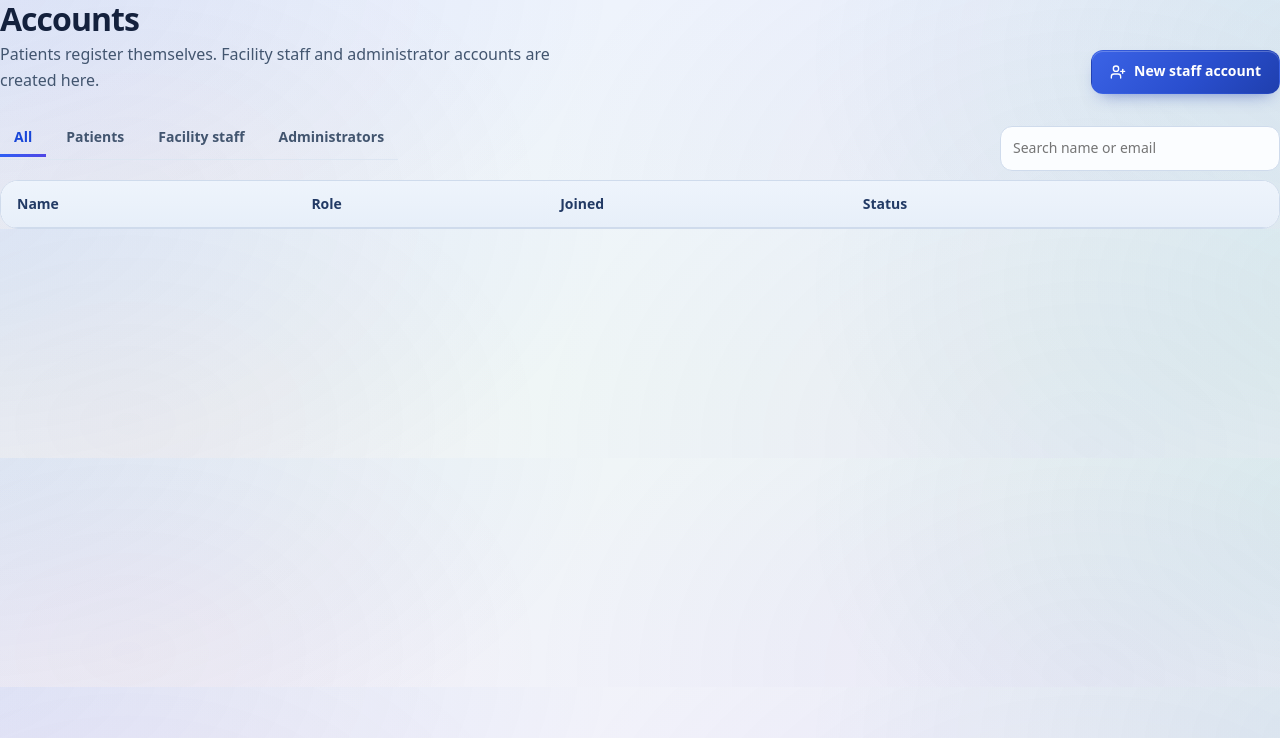
Test case: admin staff accounts › says when no facility matches and clears an earlier choice
Step 1. Click the button "New staff account" → (1186, 72), box top-left (1091, 50), bottom-right (1279, 94)
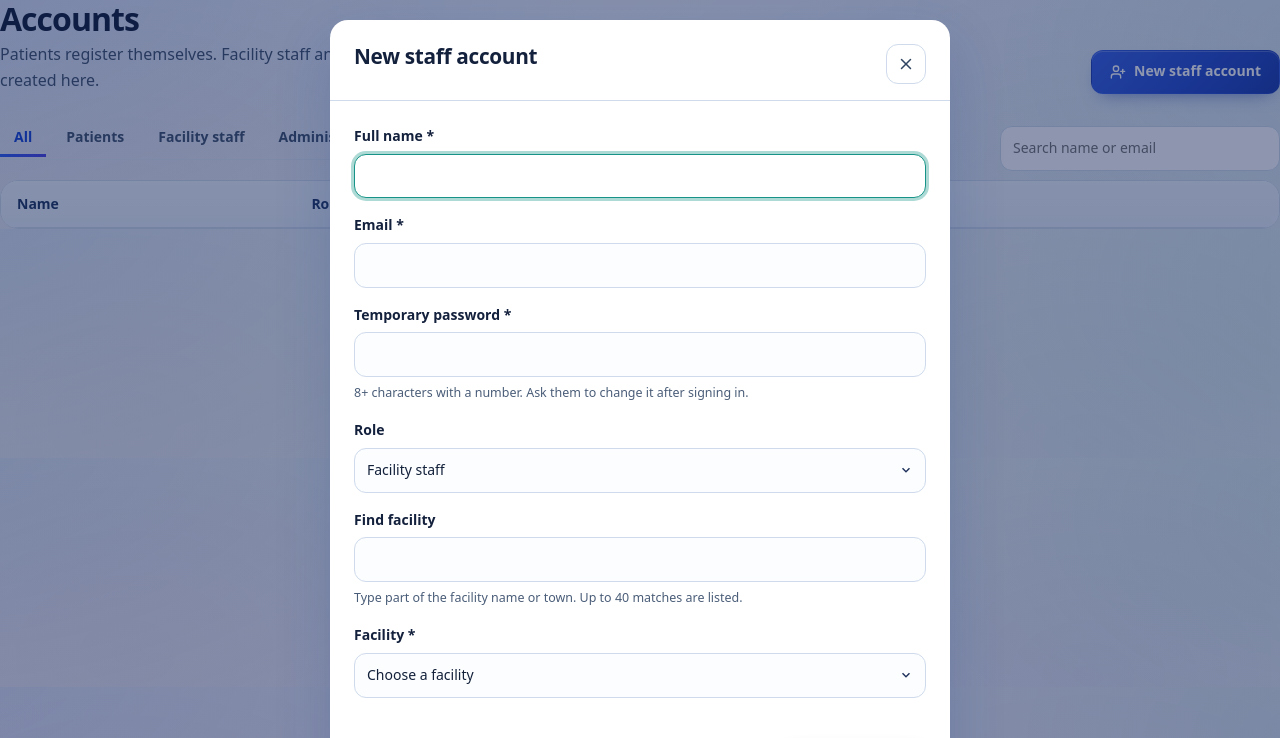
Step 2. Select "Aga Khan Hospital (Nairobi)" in the dropdown labelled "Facility *" → (640, 675), box top-left (354, 653), bottom-right (926, 698)
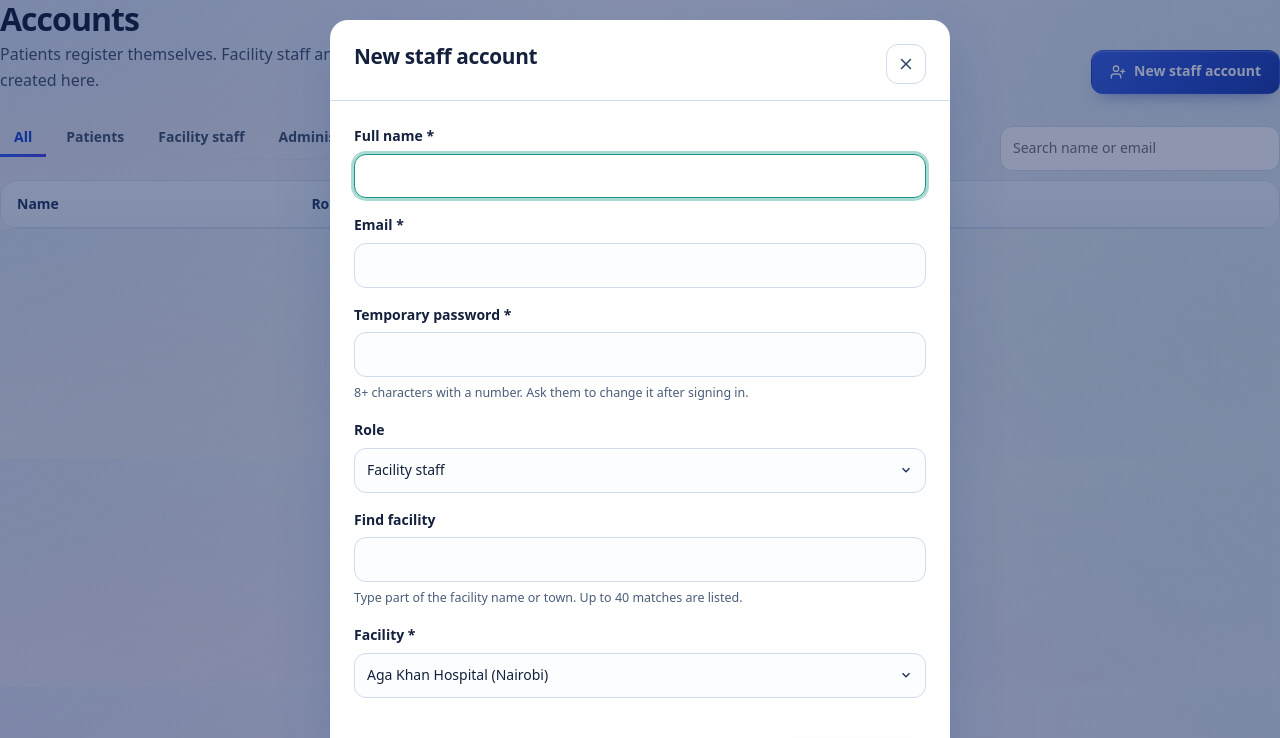
Step 3. Type "nowhere" into the field labelled "Find facility" → (640, 560), box top-left (354, 537), bottom-right (926, 582)
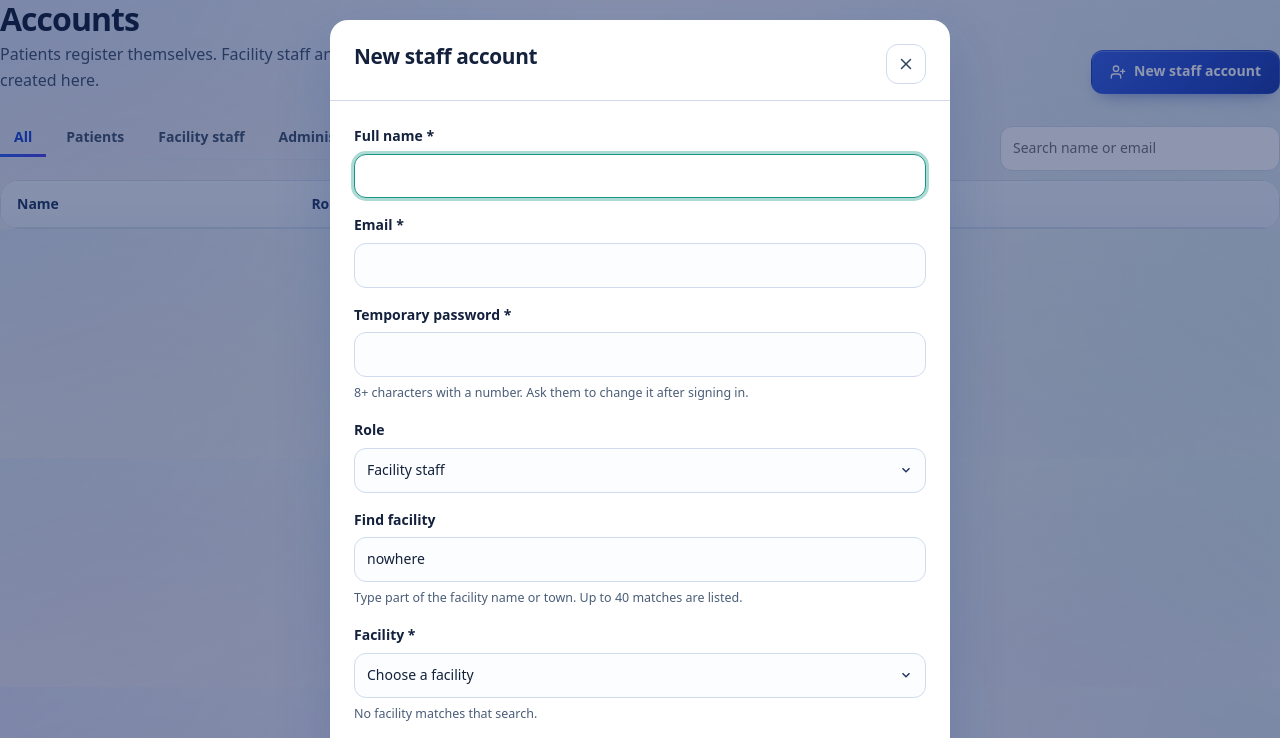
Expected: the text "No facility matches that search." is shown, top-left (354, 704), bottom-right (537, 722)
